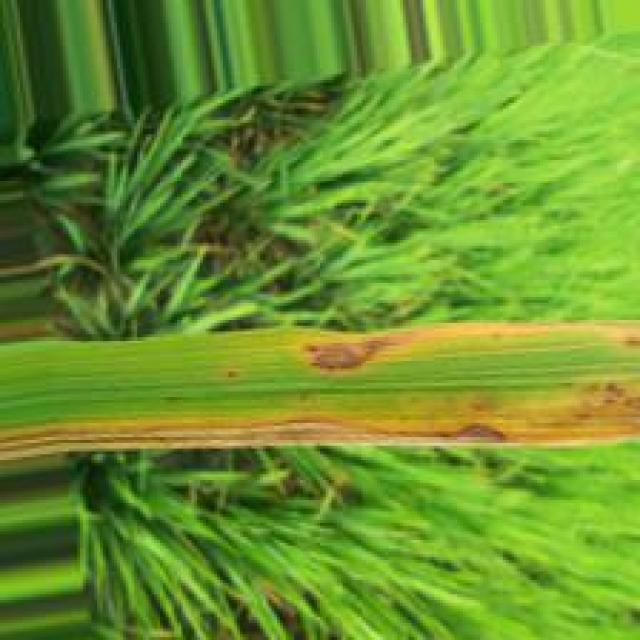Leaf_Blast: (3, 320, 640, 464)
